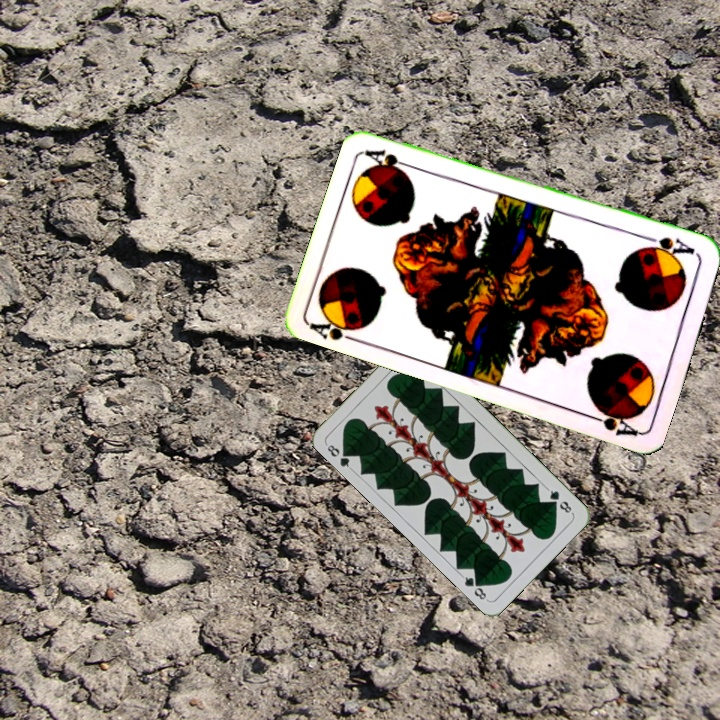G8: (322, 440, 355, 472), (543, 484, 575, 516)
SA: (306, 309, 368, 346), (640, 232, 700, 262)
